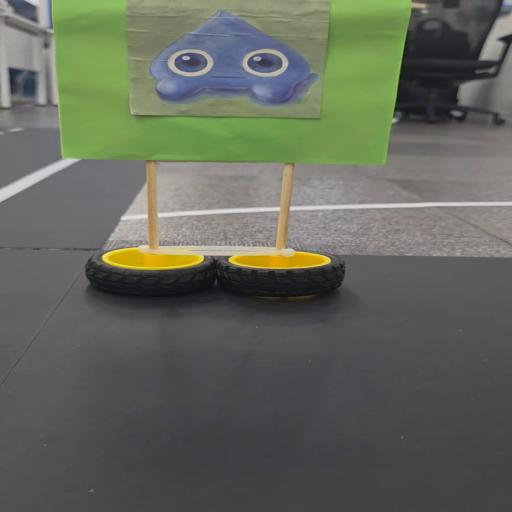Sign_B: (46, 0, 409, 307)
